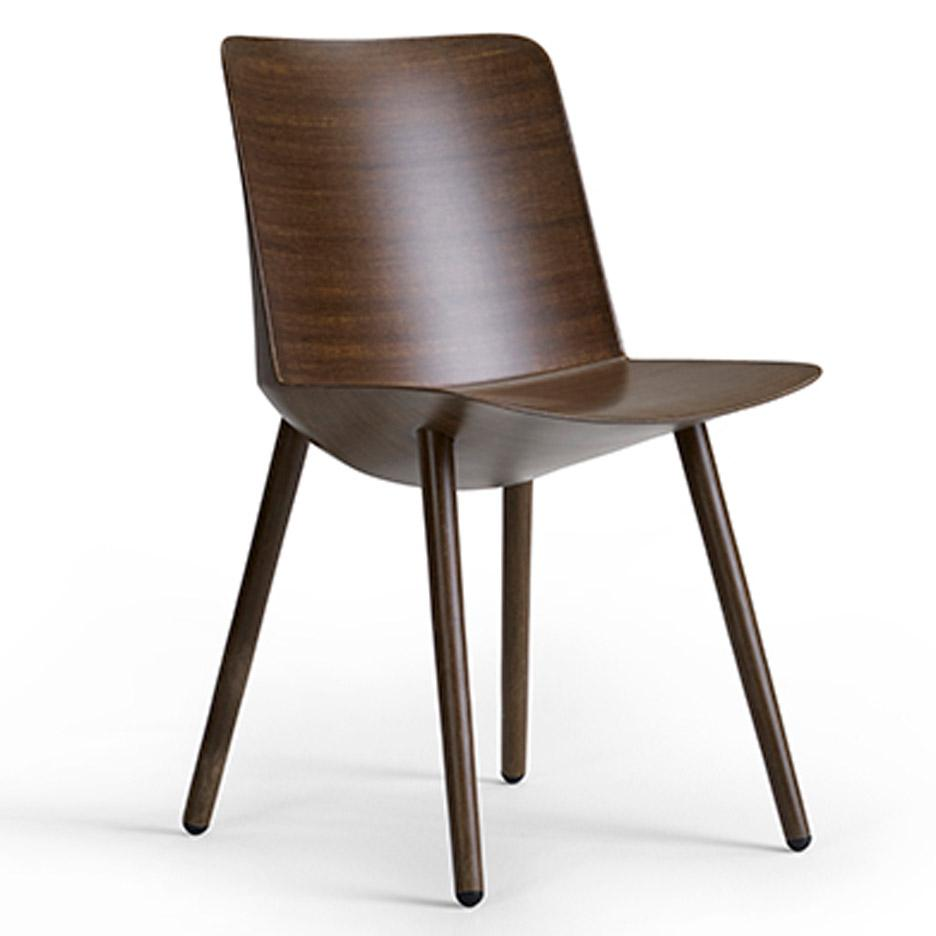chair: (163, 18, 857, 913)
